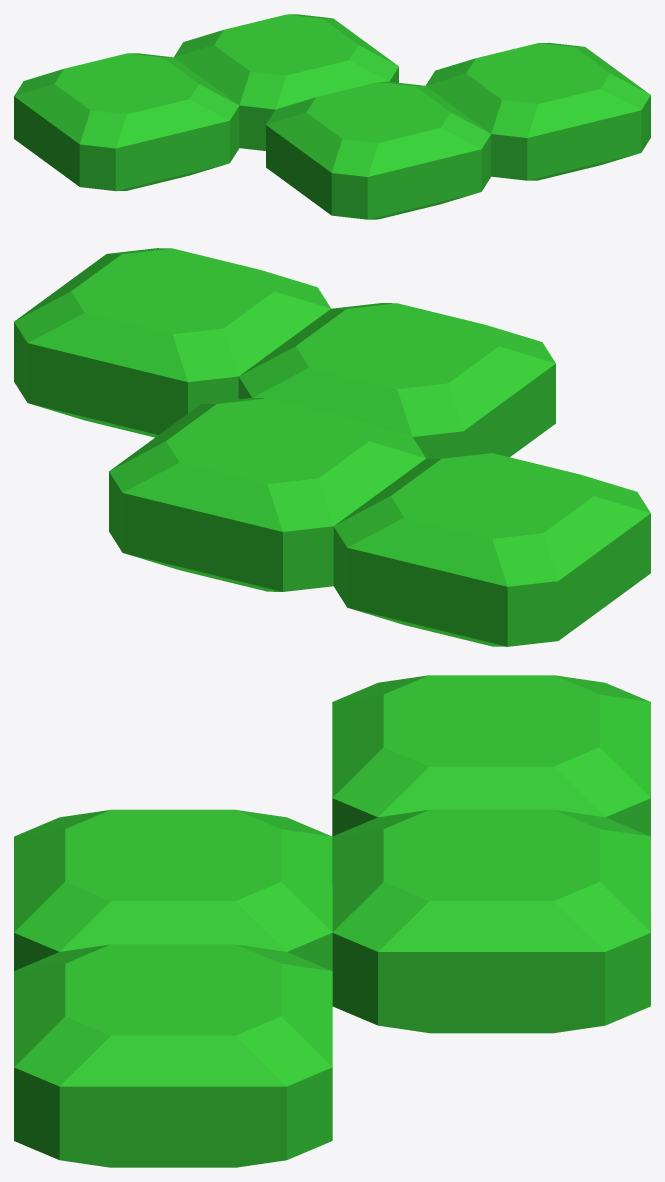
3 views of the same model, one above another, from view 1: azimuth 30°, elevation 25°; view 2: azimuth 150°, elevation 25°; view 3: azimuth 270°, elevation 25° (orthographic). The views are drawn at different scales.
Parts seen in each view (by area): view 1: Cube.019; view 2: Cube.019; view 3: Cube.019.
Part boxes in pixels (left/top/right/bottom): Cube.019: left=14, top=14, right=650, bottom=219; Cube.019: left=14, top=248, right=650, bottom=646; Cube.019: left=14, top=675, right=650, bottom=1167.
Size of the model in its own units: 1.5 by 0.2288 by 1.
1 material, 1 textured.
